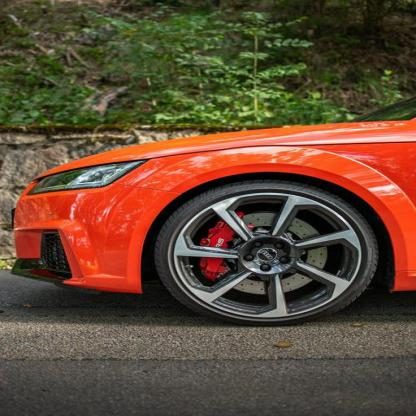Tire: (148, 176, 382, 327)
